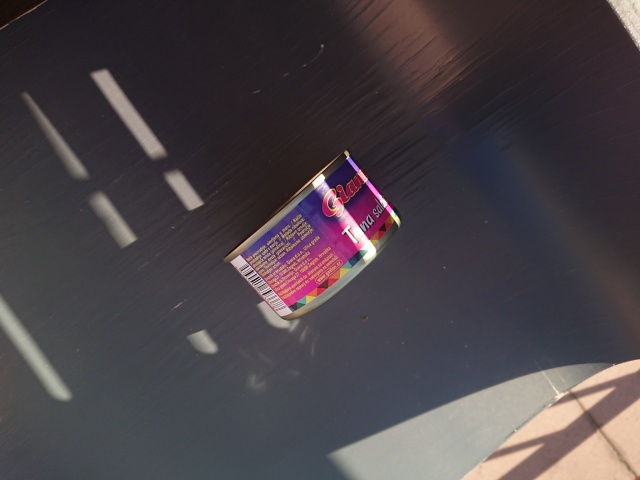Giana Tuna Salad Mexico 185g: (219, 144, 404, 323)
